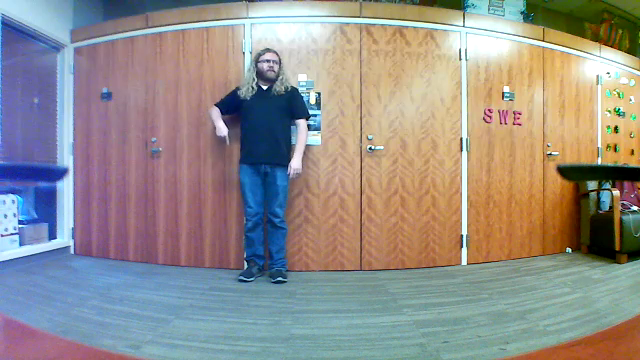down: (212, 119, 235, 152)
